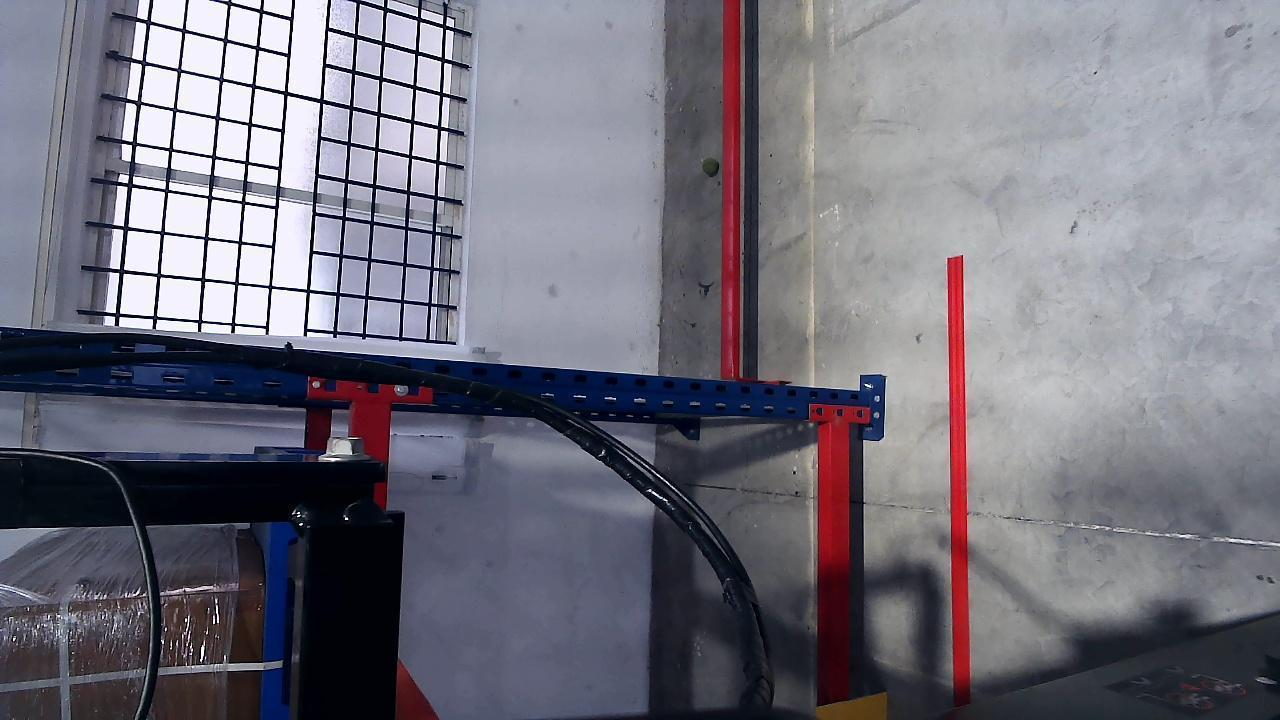red_line: (948, 251, 970, 692)
